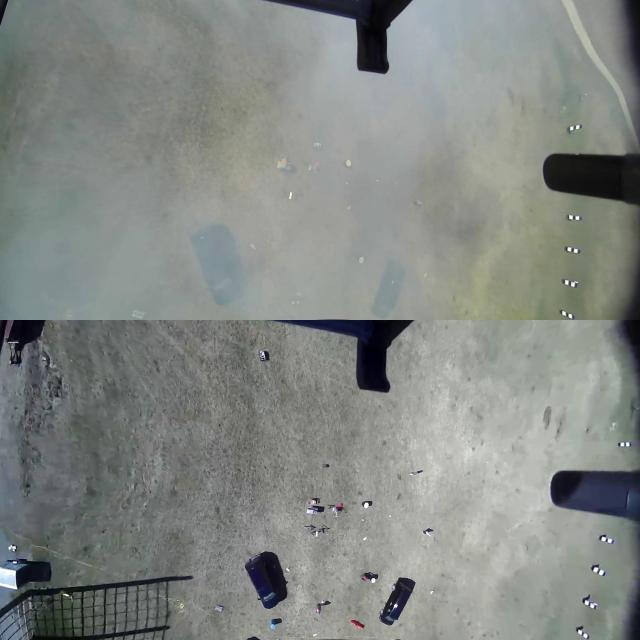car: (176, 216, 251, 314), (240, 550, 294, 622), (383, 568, 418, 640)
